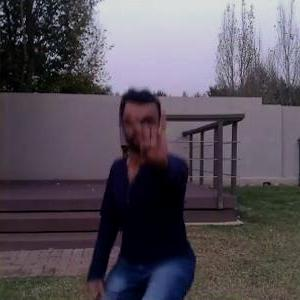takeoff-hand: (126, 97, 179, 168)
